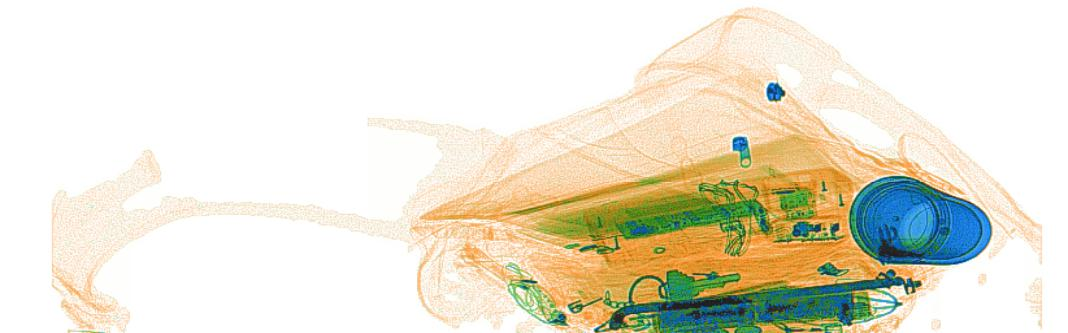battery: (647, 286, 873, 331)
lighter: (751, 320, 845, 332)
